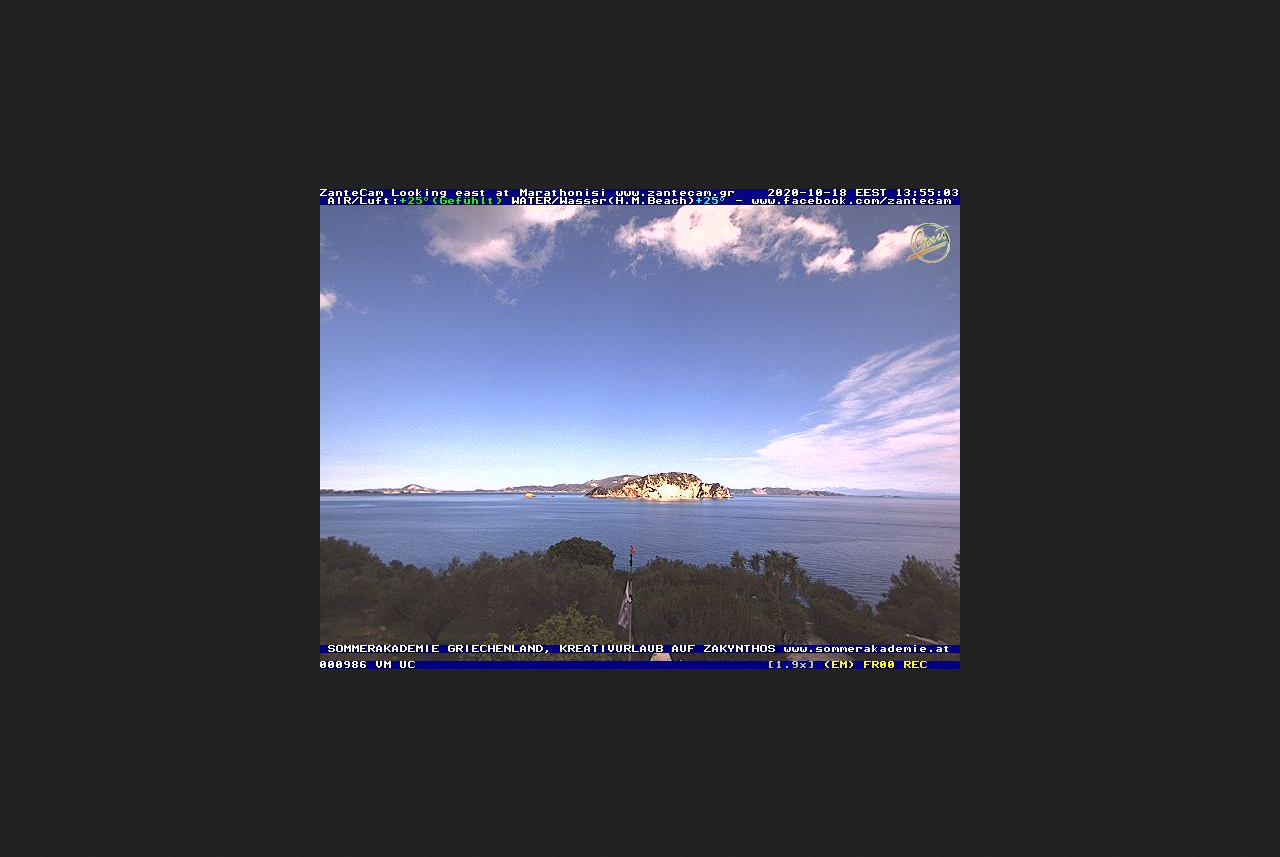no: (617, 577, 635, 628)
